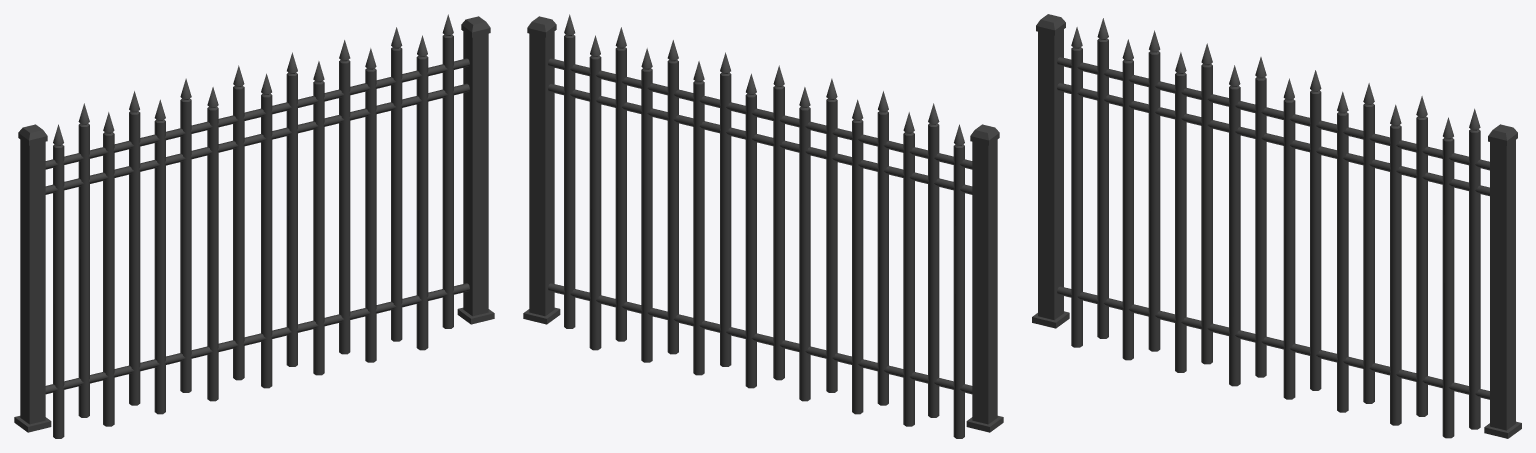
File: cerca_final.fbx
The picture shows the model from 3 angles, left to right: view 1: azimuth 30°, elevation 25°; view 2: azimuth 150°, elevation 25°; view 3: azimuth 330°, elevation 25°; orthographic projection. The views are drawn at different scales.
Visible parts, largest first — view 1: pCube4; view 2: pCube4; view 3: pCube4.
Part boxes in pixels (x1,y1,x2,y2): pCube4: [14, 14, 494, 438]; pCube4: [523, 14, 1003, 438]; pCube4: [1032, 14, 1521, 438].
Size of the model in its own units: 30.19 by 20.27 by 1.52.
